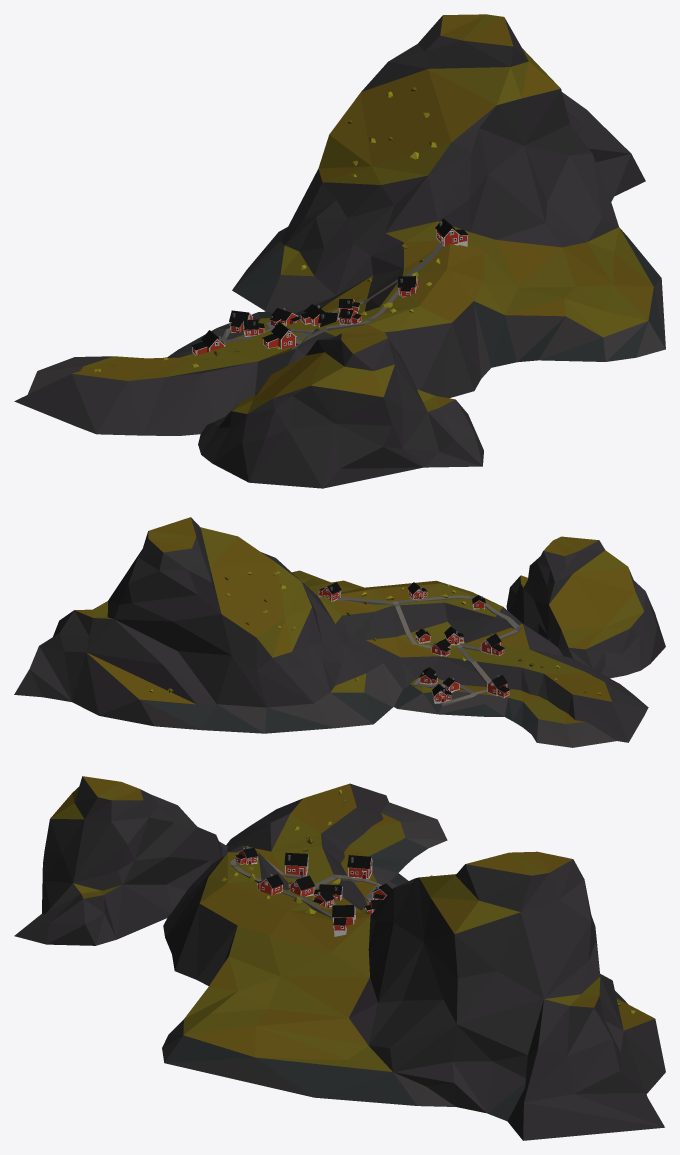
File: Foreground Greenland.fbx
The picture shows the model from 3 angles, top to bottom: view 1: azimuth 30°, elevation 25°; view 2: azimuth 150°, elevation 25°; view 3: azimuth 270°, elevation 25°; orthographic projection. The views are drawn at different scales.
Visible parts, largest first — view 1: Greenland Close, Houses; view 2: Greenland Close, Houses; view 3: Greenland Close, Houses.
Boxes of the visible parts, x1,y1,x2,y2 form: Greenland Close: (14,14,665,488); Houses: (191,218,468,355); Greenland Close: (14,517,665,747); Houses: (318,582,521,706); Greenland Close: (14,776,665,1140); Houses: (229,846,392,936).
Size of the model in its own units: 41616 by 11080 by 33196.
